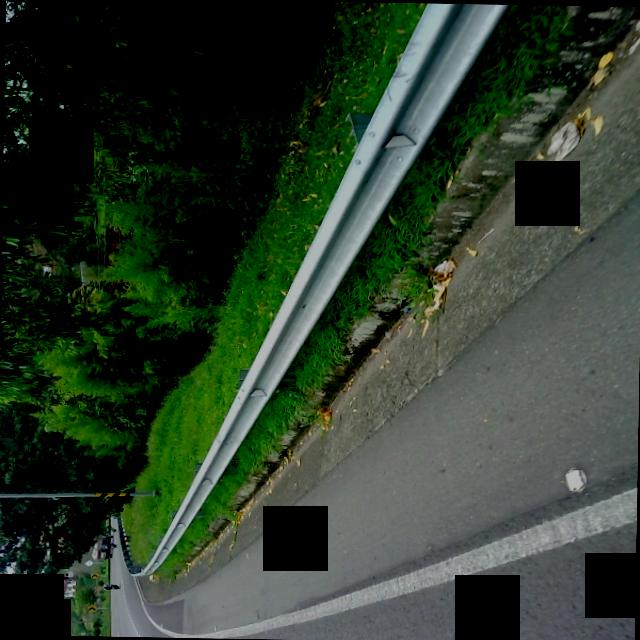DITCH: (121, 0, 640, 601)
